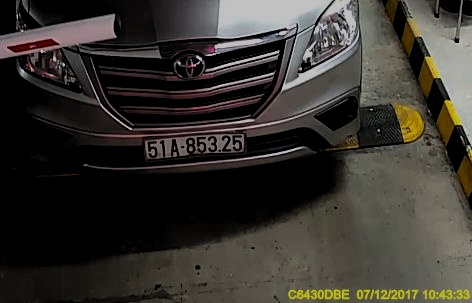plate: (143, 130, 250, 167)
